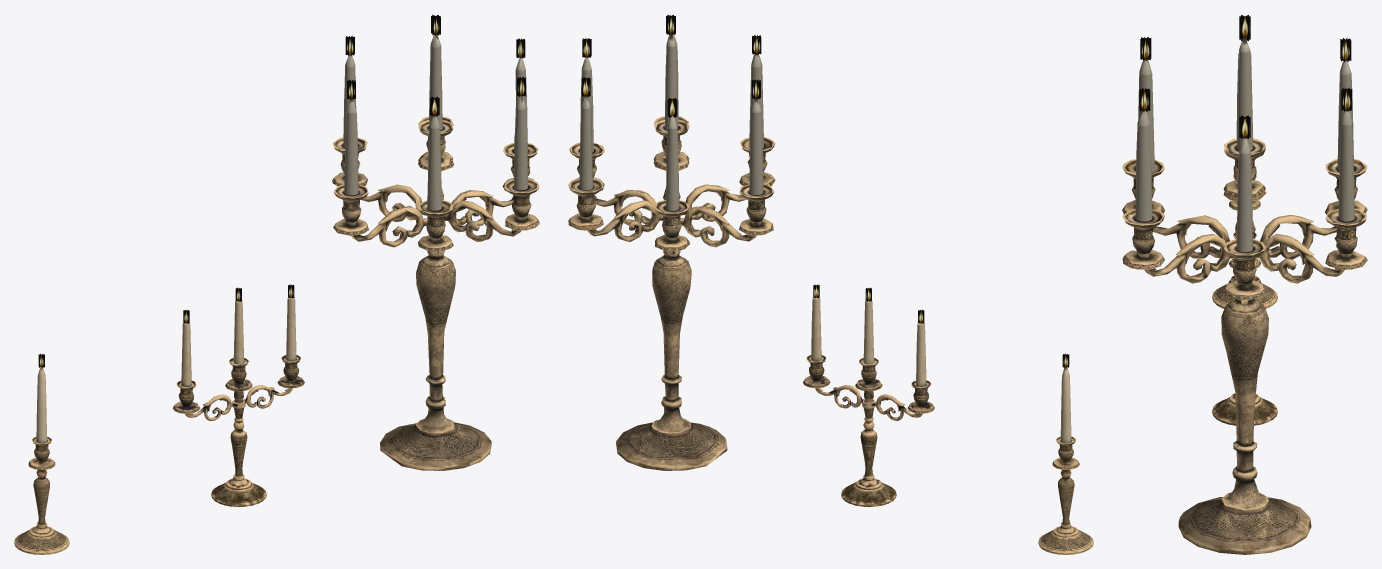
The model's file is brass_candleholders.glb.
3 renders of one model, left to right at view 1: azimuth 30°, elevation 25°; view 2: azimuth 150°, elevation 25°; view 3: azimuth 270°, elevation 25°, orthographic. The views are drawn at different scales.
Parts seen in each view (by area): view 1: brass_candleholder_03, brass_candleholder_02, brass_candleholder_01; view 2: brass_candleholder_03, brass_candleholder_02, brass_candleholder_01; view 3: brass_candleholder_03, brass_candleholder_02, brass_candleholder_01.
Boxes of the visible parts, x1=… form: brass_candleholder_03: x1=38, y1=14, x2=539, y2=470; brass_candleholder_02: x1=173, y1=297, x2=304, y2=506; brass_candleholder_01: x1=14, y1=367, x2=69, y2=554; brass_candleholder_03: x1=568, y1=14, x2=1069, y2=470; brass_candleholder_02: x1=803, y1=297, x2=934, y2=506; brass_candleholder_01: x1=1038, y1=367, x2=1093, y2=554; brass_candleholder_03: x1=1122, y1=15, x2=1367, y2=554; brass_candleholder_02: x1=1212, y1=232, x2=1277, y2=425; brass_candleholder_01: x1=1212, y1=174, x2=1277, y2=308.
Size of the model in its own units: 1.05 by 0.8353 by 0.3645.
5 materials, 5 textured.
